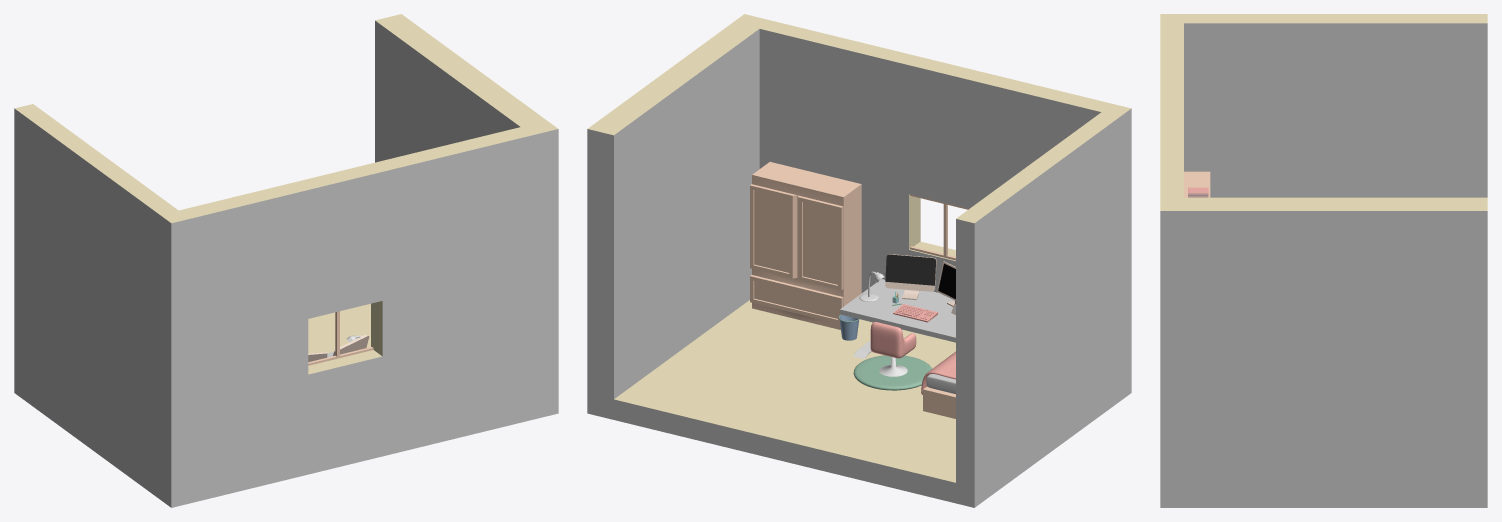
The model's file is Study_Room_11.glb.
3 views of the same model, side by side, from view 1: azimuth 30°, elevation 25°; view 2: azimuth 150°, elevation 25°; view 3: azimuth 270°, elevation 25° (orthographic). The views are drawn at different scales.
Visible parts, largest first — view 1: Room; view 2: Room, Closet, Table Top, Rug, Desktop Screen, Chair, Bedframe; view 3: Room, Shelf.001.
Part boxes in pixels (left/top/right/bottom): Room: left=14, top=14, right=558, bottom=507; Room: left=587, top=14, right=1131, bottom=507; Closet: left=750, top=162, right=861, bottom=329; Table Top: left=840, top=279, right=955, bottom=342; Rug: left=853, top=355, right=931, bottom=390; Desktop Screen: left=885, top=254, right=935, bottom=285; Chair: left=870, top=322, right=916, bottom=358; Bedframe: left=923, top=386, right=955, bottom=418; Room: left=1160, top=14, right=1487, bottom=507; Shelf.001: left=1184, top=171, right=1210, bottom=197.
Size of the model in its own units: 27.72 by 19.48 by 19.48.
